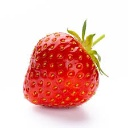strawberry: (22, 31, 103, 109)
